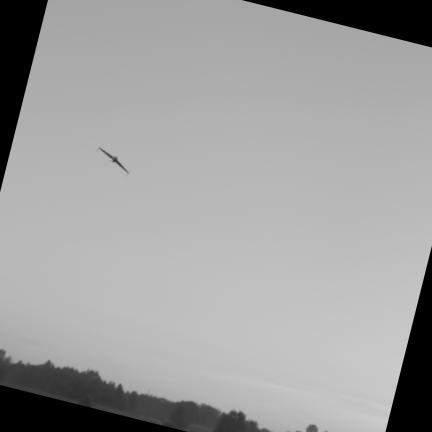Shahed: (96, 145, 130, 175)
